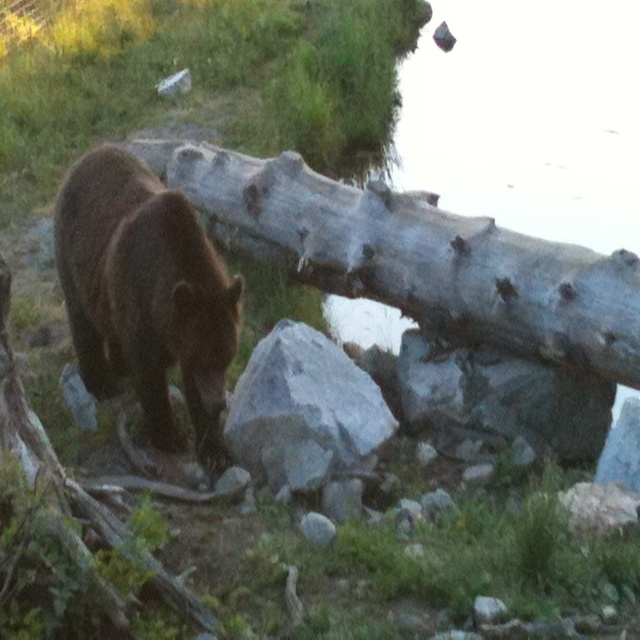Brown bear: (47, 142, 241, 466)
